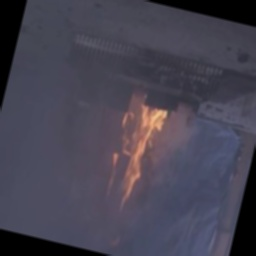fire: (94, 96, 170, 216)
